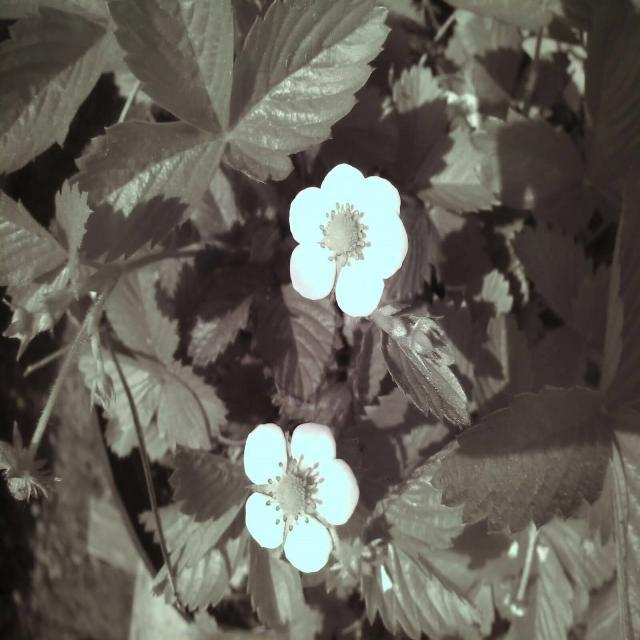flower: (237, 416, 362, 576), (289, 154, 409, 320)
